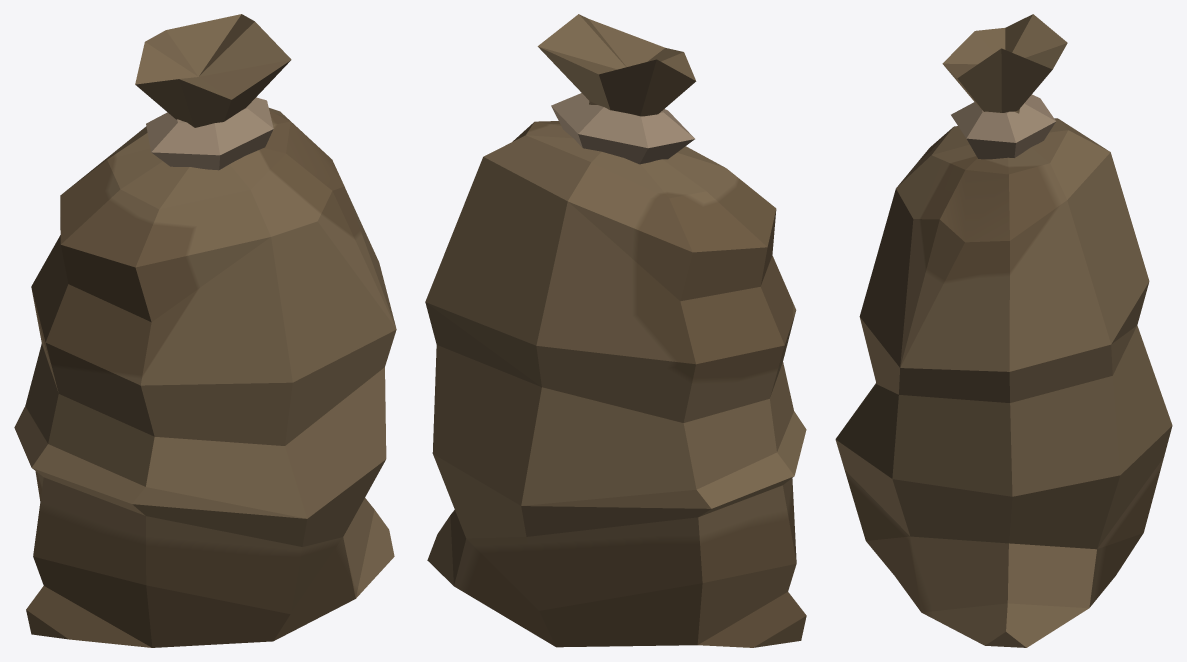
Rendered from SM_Prop_Sack_02.fbx.
3 views of the same model, side by side, from view 1: azimuth 30°, elevation 25°; view 2: azimuth 150°, elevation 25°; view 3: azimuth 270°, elevation 25° (orthographic). The views are drawn at different scales.
Visible parts, largest first — view 1: SM_Prop_Sack_02; view 2: SM_Prop_Sack_02; view 3: SM_Prop_Sack_02.
Part boxes in pixels (<box>): SM_Prop_Sack_02: <box>14,14,396,647</box>; SM_Prop_Sack_02: <box>425,14,806,647</box>; SM_Prop_Sack_02: <box>835,14,1172,647</box>.
Bounding box in the file's own units: 54.93 × 83.03 × 46.17.
